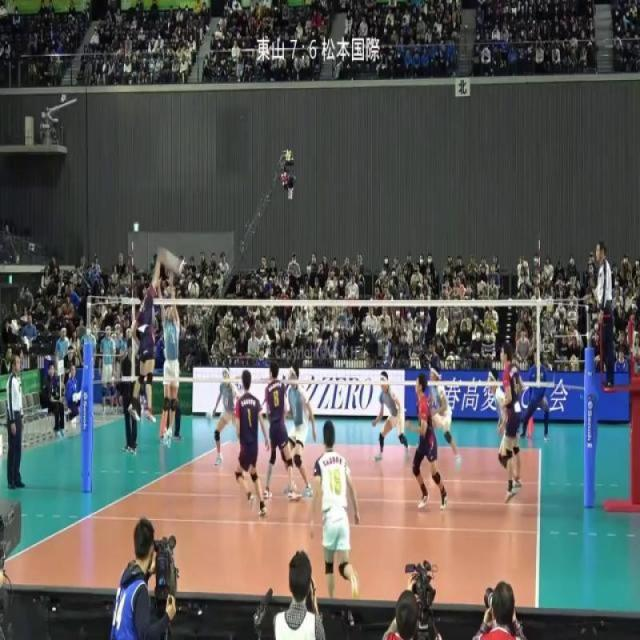volleyball: (158, 248, 182, 274)
